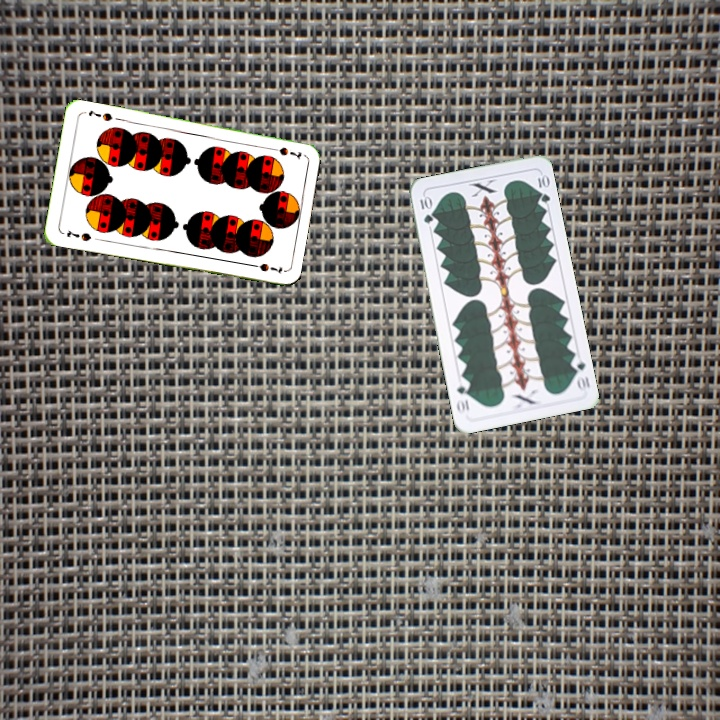G10: (567, 353, 592, 394), (416, 192, 435, 226)
S7: (265, 143, 304, 161), (62, 226, 94, 244)
